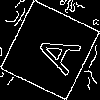A: (25, 25, 82, 77)
